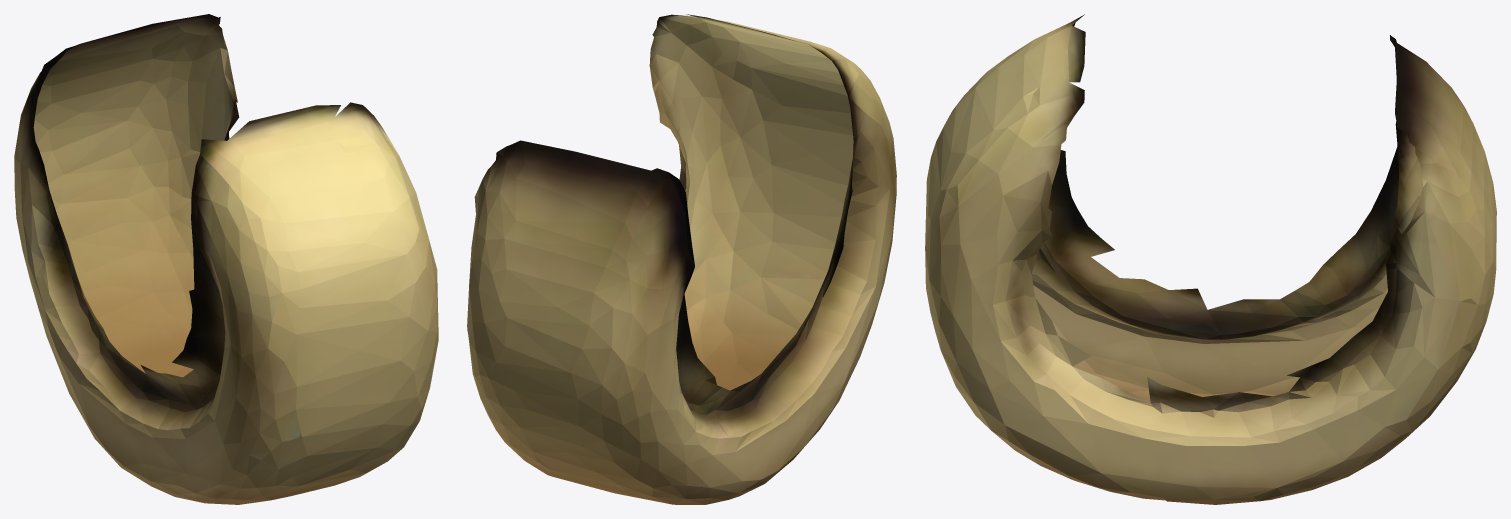
Rendered from wheel_2.glb.
3 views of the same model, side by side, from view 1: azimuth 30°, elevation 25°; view 2: azimuth 150°, elevation 25°; view 3: azimuth 270°, elevation 25° (orthographic). The views are drawn at different scales.
Visible parts, largest first — view 1: source_surface_0; view 2: source_surface_0; view 3: source_surface_0.
Part boxes in pixels (box(x1,y1,x2,y2)): source_surface_0: box(14, 14, 438, 504); source_surface_0: box(467, 14, 896, 504); source_surface_0: box(925, 14, 1496, 504).
Size of the model in its own units: 0.0141 by 0.0253 by 0.0315.
Materials: 1 (1 with a texture image).
